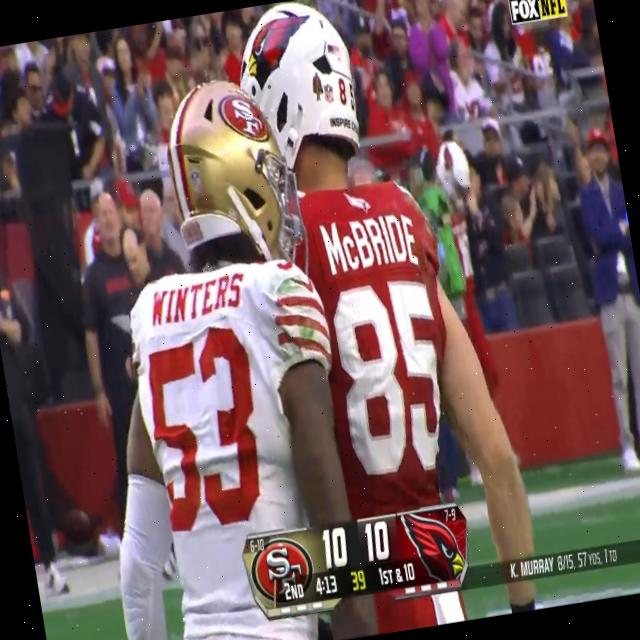Player: (236, 0, 521, 515), (60, 63, 350, 547)
